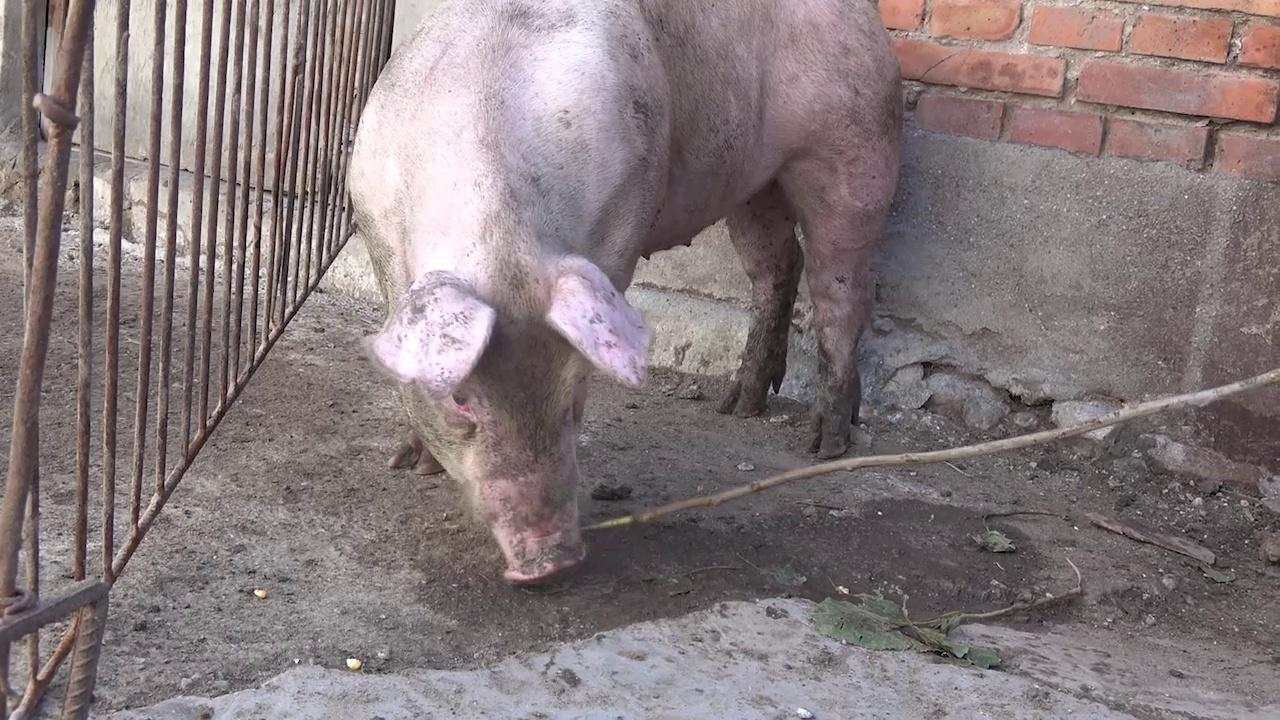Face: (363, 245, 664, 590)
